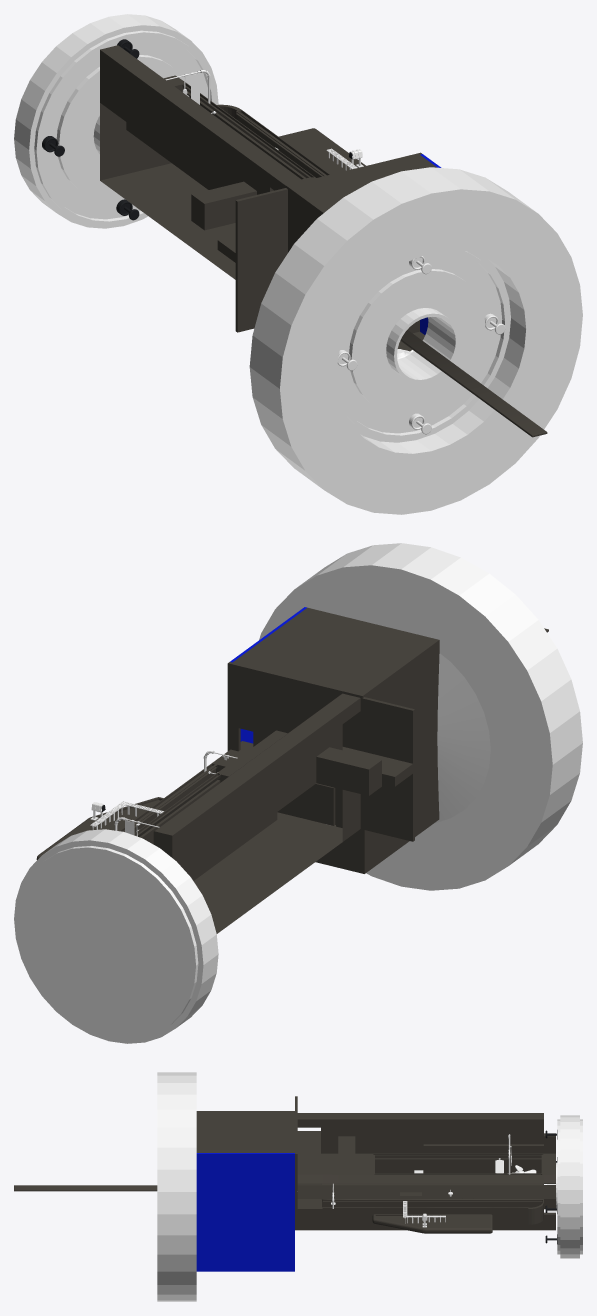
File: Level5PivotesOk.fbx
The picture shows the model from 3 angles, top to bottom: view 1: azimuth 30°, elevation 25°; view 2: azimuth 150°, elevation 25°; view 3: azimuth 270°, elevation 25°; orthographic projection. The views are drawn at different scales.
Parts seen in each view (by area): view 1: rueda, Lvl5, Lvl5.001, PitorrosRueda; view 2: rueda, Lvl5; view 3: Lvl5, rueda, Lvl5.001.
Boxes of the visible parts, box(x1,y1,x2,y2) form: rueda: box(14, 14, 582, 514); Lvl5: box(100, 45, 441, 351); Lvl5.001: box(400, 330, 547, 437); PitorrosRueda: box(42, 39, 139, 220); rueda: box(14, 543, 582, 1043); Lvl5: box(36, 607, 439, 933); Lvl5: box(196, 1096, 555, 1271); rueda: box(157, 1072, 582, 1301); Lvl5.001: box(14, 1185, 157, 1191).
Size of the model in its own units: 45.08 by 45.08 by 112.
